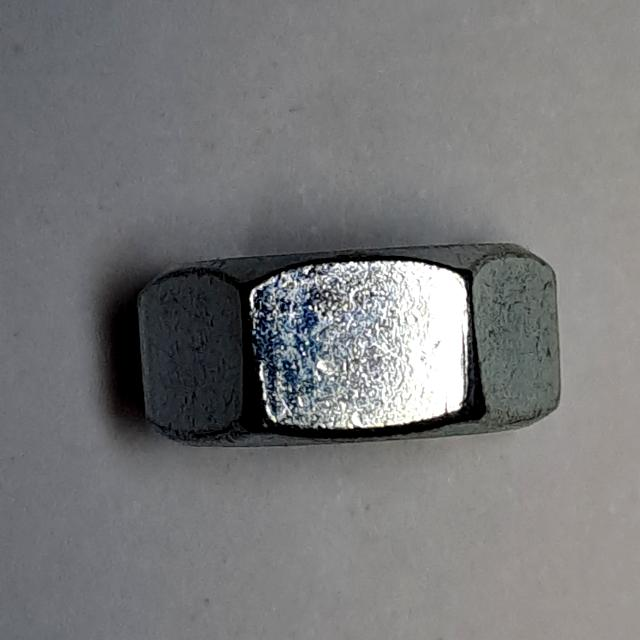Side_Excellent: (128, 194, 578, 480)
